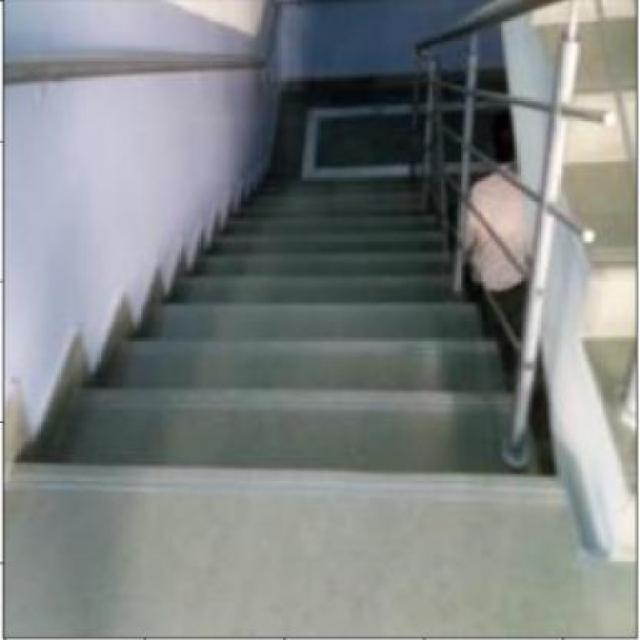stair: (41, 171, 532, 498)
